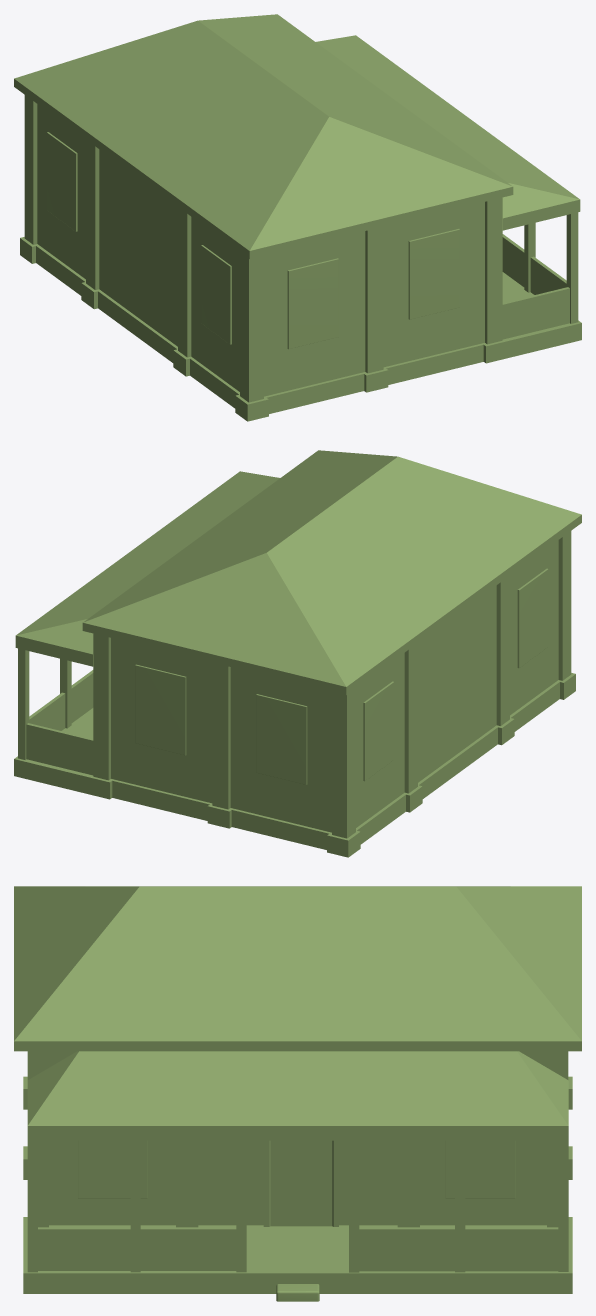
The model's file is Houses_rich(UV).fbx.
The picture shows the model from 3 angles, top to bottom: view 1: azimuth 30°, elevation 25°; view 2: azimuth 150°, elevation 25°; view 3: azimuth 270°, elevation 25°; orthographic projection. The views are drawn at different scales.
Visible parts, largest first — view 1: House_rich; view 2: House_rich; view 3: House_rich.
Part boxes in pixels (x1=…): House_rich: x1=14, y1=14, x2=581, y2=421; House_rich: x1=14, y1=450, x2=581, y2=857; House_rich: x1=14, y1=886, x2=581, y2=1301.
Bounding box in the file's own units: 734 × 478 × 857.
